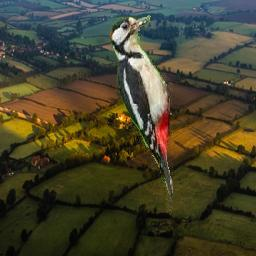Woodpecker: (111, 16, 174, 213)
